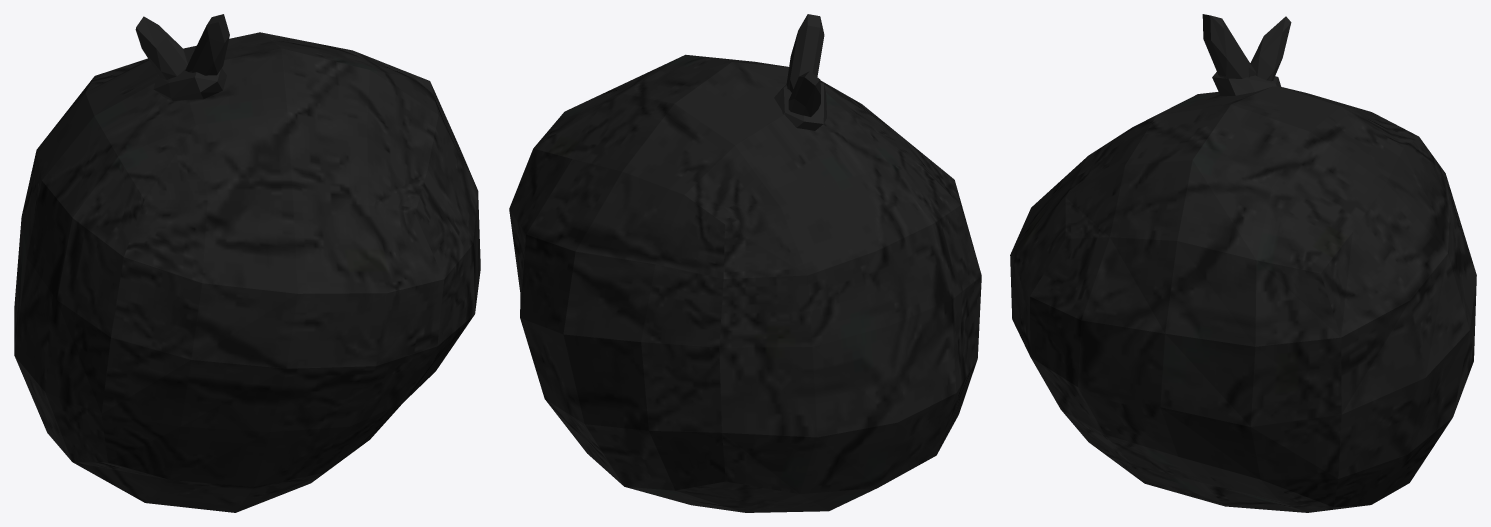
File: strProp_23.glb
3 views of the same model, side by side, from view 1: azimuth 30°, elevation 25°; view 2: azimuth 150°, elevation 25°; view 3: azimuth 270°, elevation 25° (orthographic). The views are drawn at different scales.
Parts seen in each view (by area): view 1: geometry_0; view 2: geometry_0; view 3: geometry_0.
Part boxes in pixels (bbox=[...]): geometry_0: bbox=[14, 14, 480, 512]; geometry_0: bbox=[509, 14, 981, 512]; geometry_0: bbox=[1010, 14, 1476, 512].
Bounding box in the file's own units: 0.4968 × 0.5499 × 0.486.
Materials: 1 (1 with a texture image).
